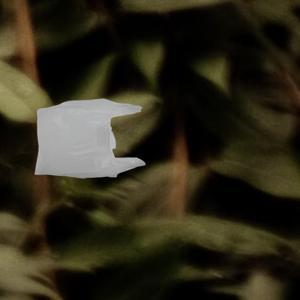plastic_bag: (32, 96, 151, 182)
